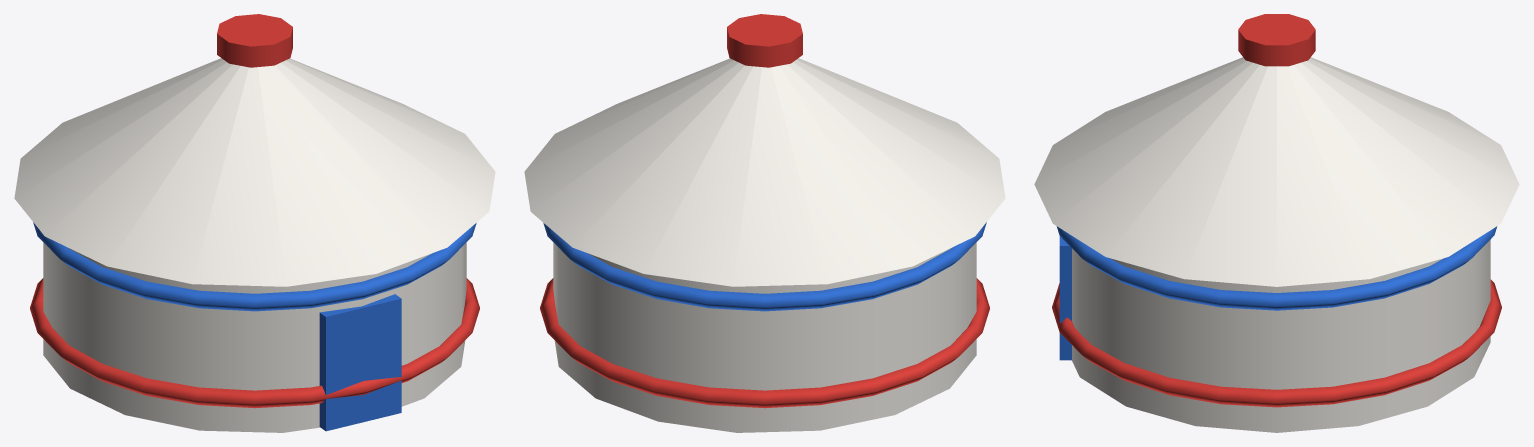
3 views of the same model, side by side, from view 1: azimuth 30°, elevation 25°; view 2: azimuth 150°, elevation 25°; view 3: azimuth 270°, elevation 25° (orthographic).
Size of the model in its own units: 2.5 by 1.78 by 2.5.
